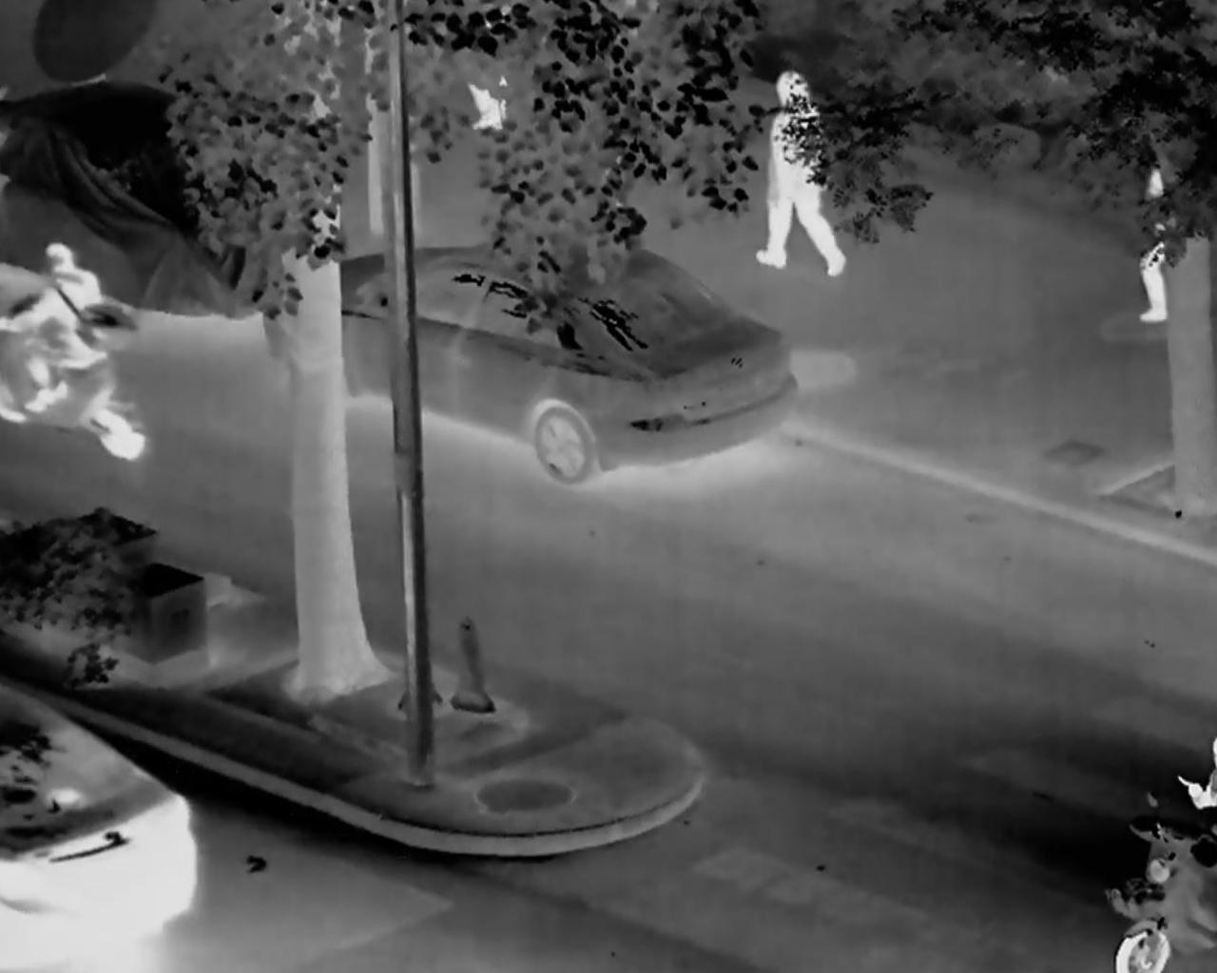person: (751, 69, 847, 277), (1128, 158, 1169, 331)
